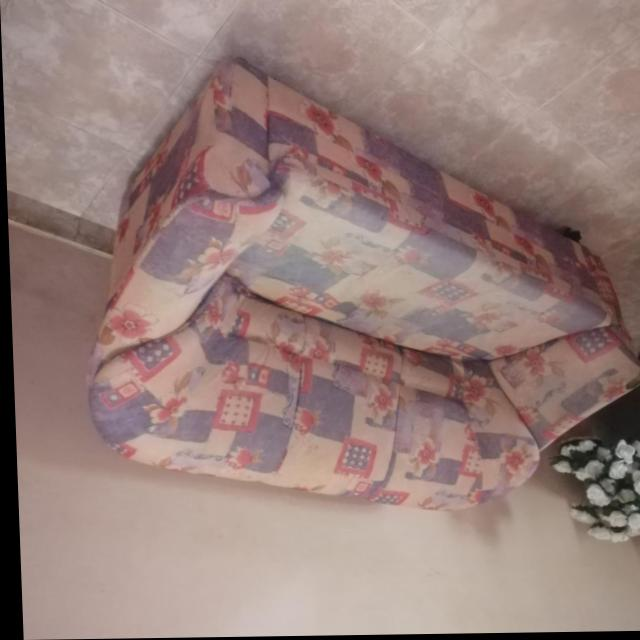Sofa: (71, 58, 640, 518)
